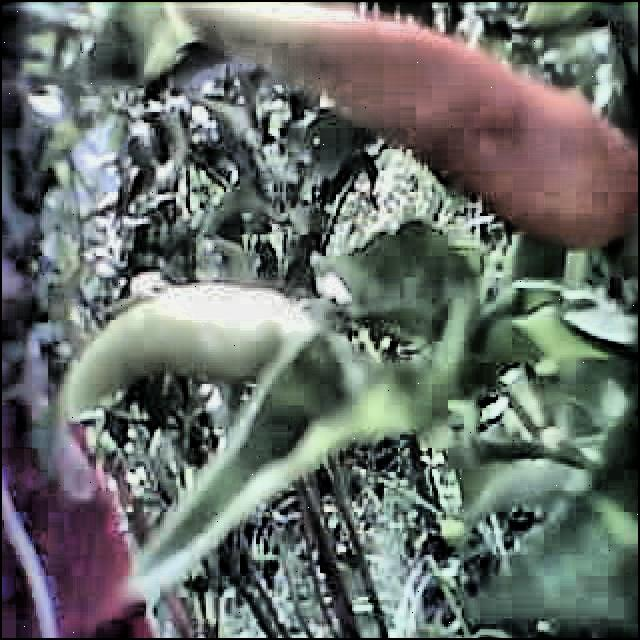Cabai: (210, 2, 638, 227)
